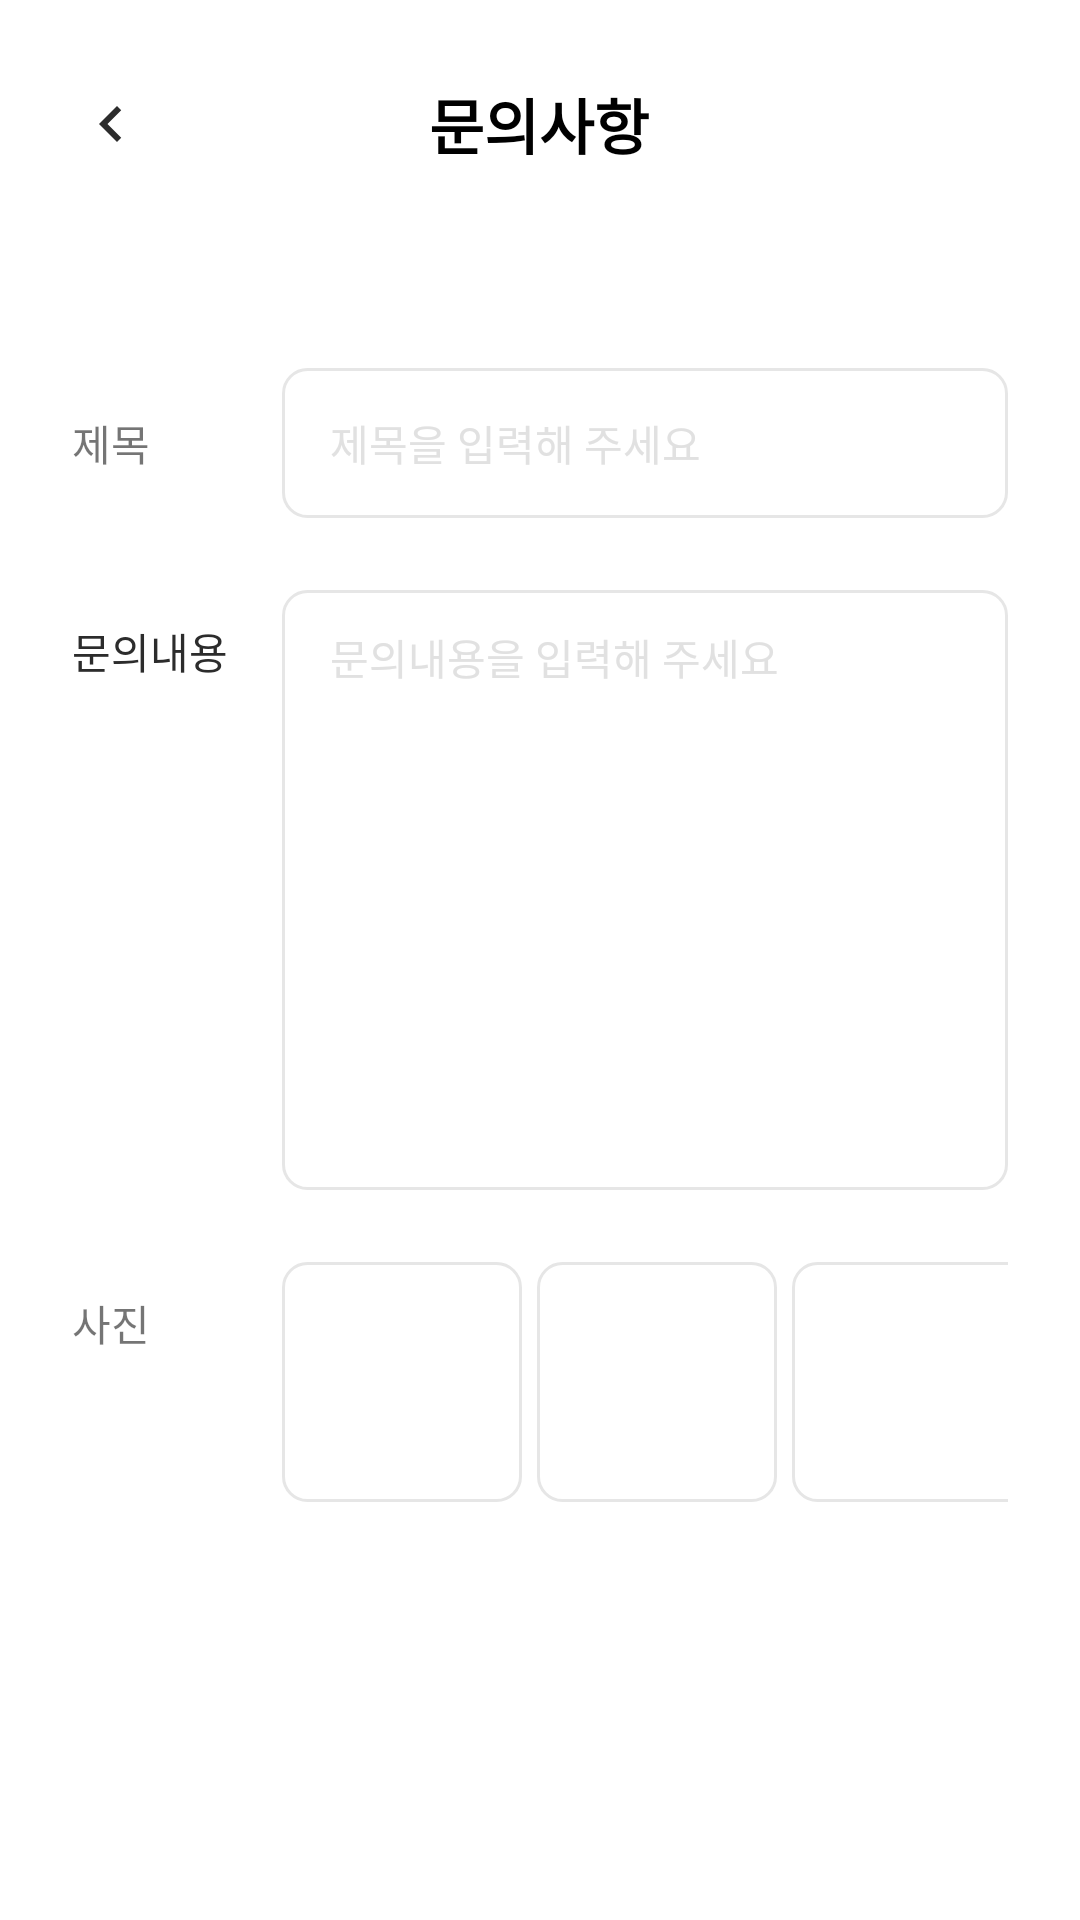

Icons on this 1080px×1920px Android screen, each with its box as rect(x1, y1, x2, y2):
before: rect(99, 106, 121, 142)
